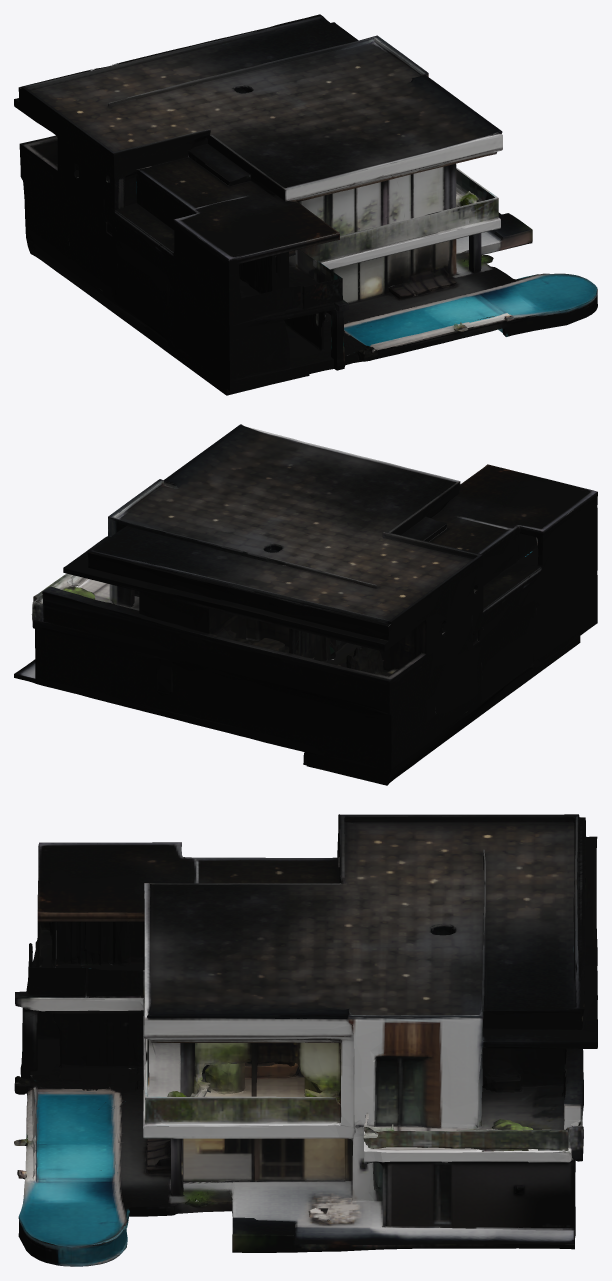
The model's file is 1777631184222_fvpzy_trellis.glb.
3 renders of one model, top to bottom at view 1: azimuth 30°, elevation 25°; view 2: azimuth 150°, elevation 25°; view 3: azimuth 270°, elevation 25°, orthographic. The views are drawn at different scales.
Visible parts, largest first — view 1: world; view 2: world; view 3: world.
Boxes of the visible parts, <box> form: world: <box>14,14,597,395</box>; world: <box>14,424,597,785</box>; world: <box>14,814,597,1266</box>.
Size of the model in its own units: 0.9779 by 0.4128 by 0.9997.
1 material, 1 textured.
